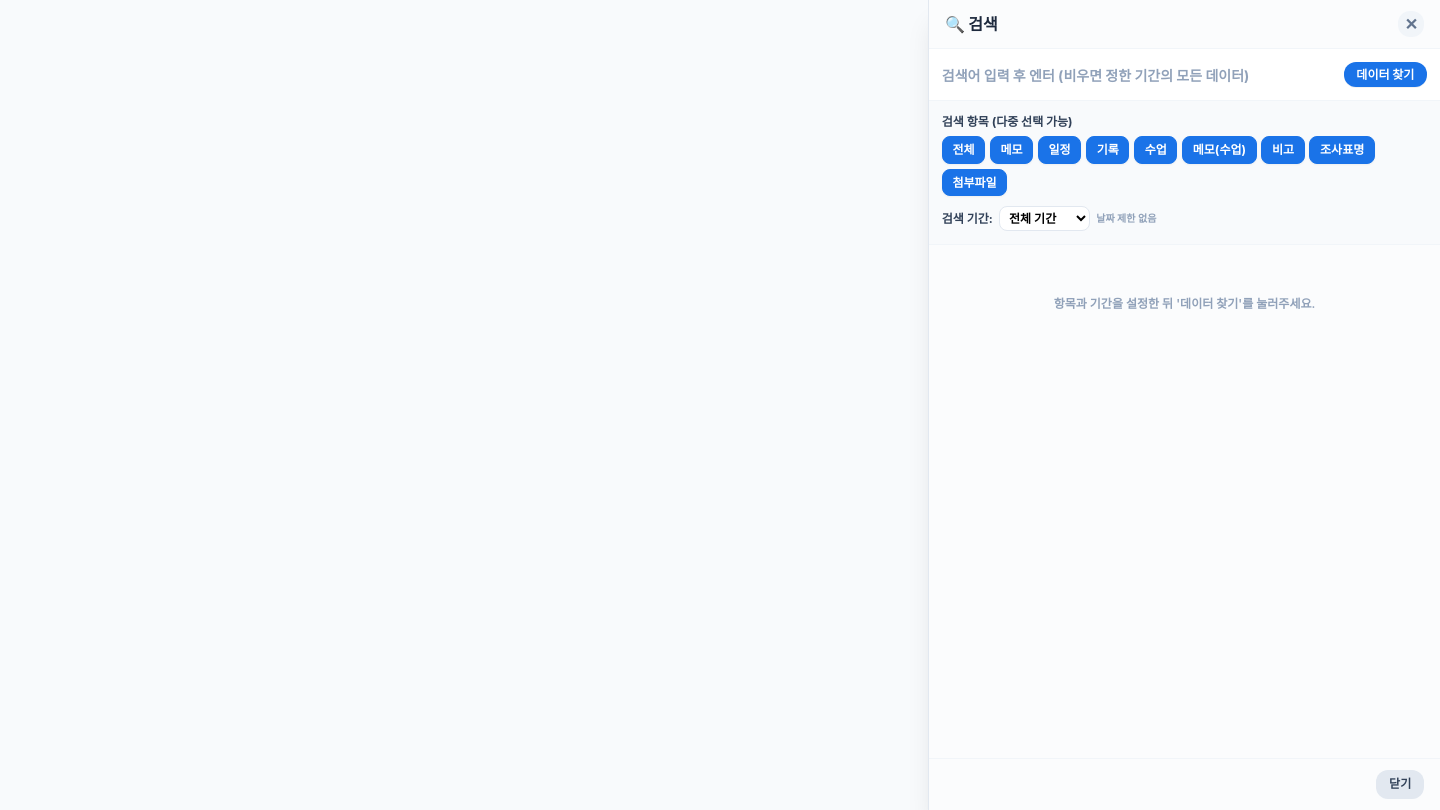
Test: 검색 - 메모 기간 › 고른 기간 안에 만든 메모만 나온다
This screenshot has width=1440, height=810.
Select "1학기" in the dropdown at (1044, 219), box [999,206,1090,231]
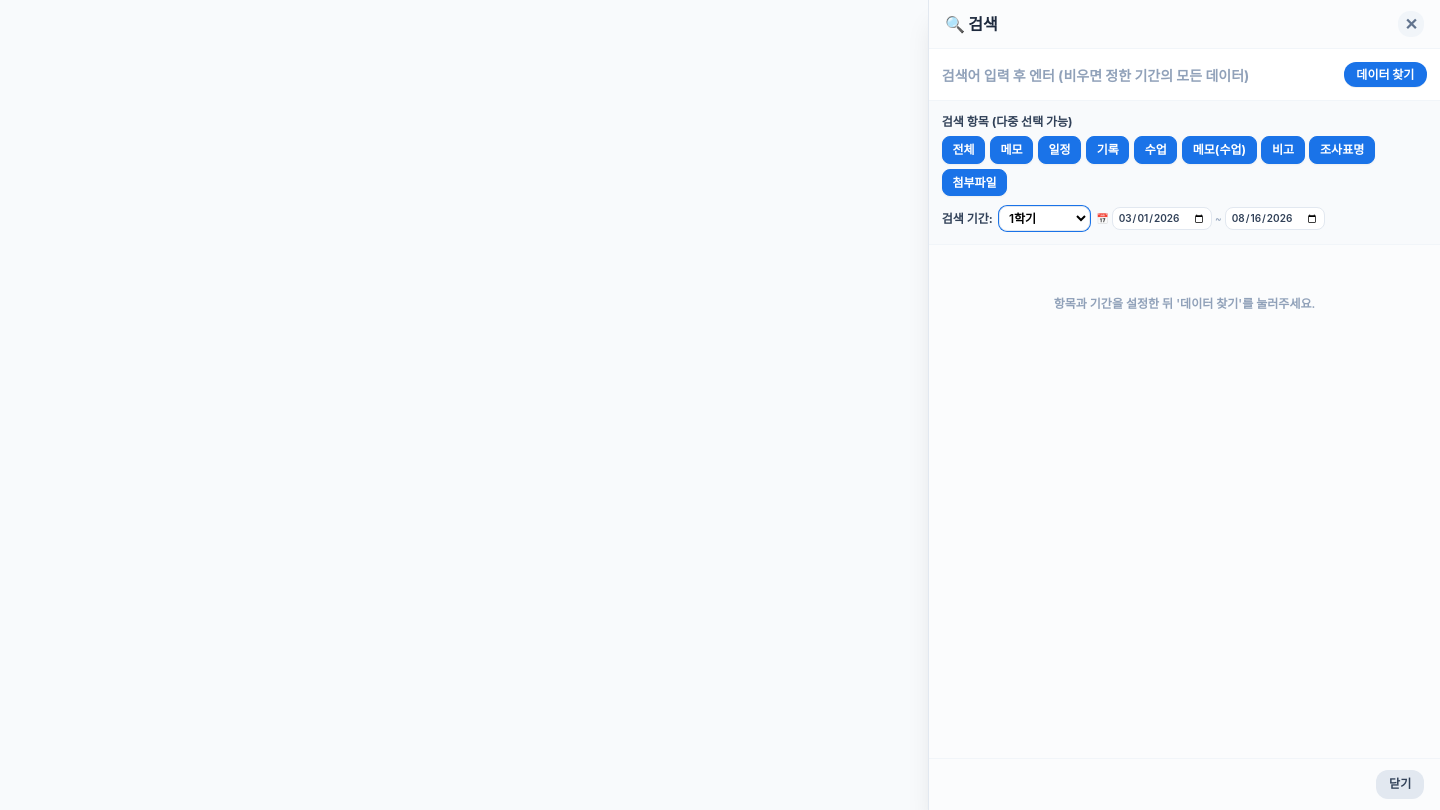
Click the button "데이터 찾기" at (1385, 75), box [1344,62,1427,87]
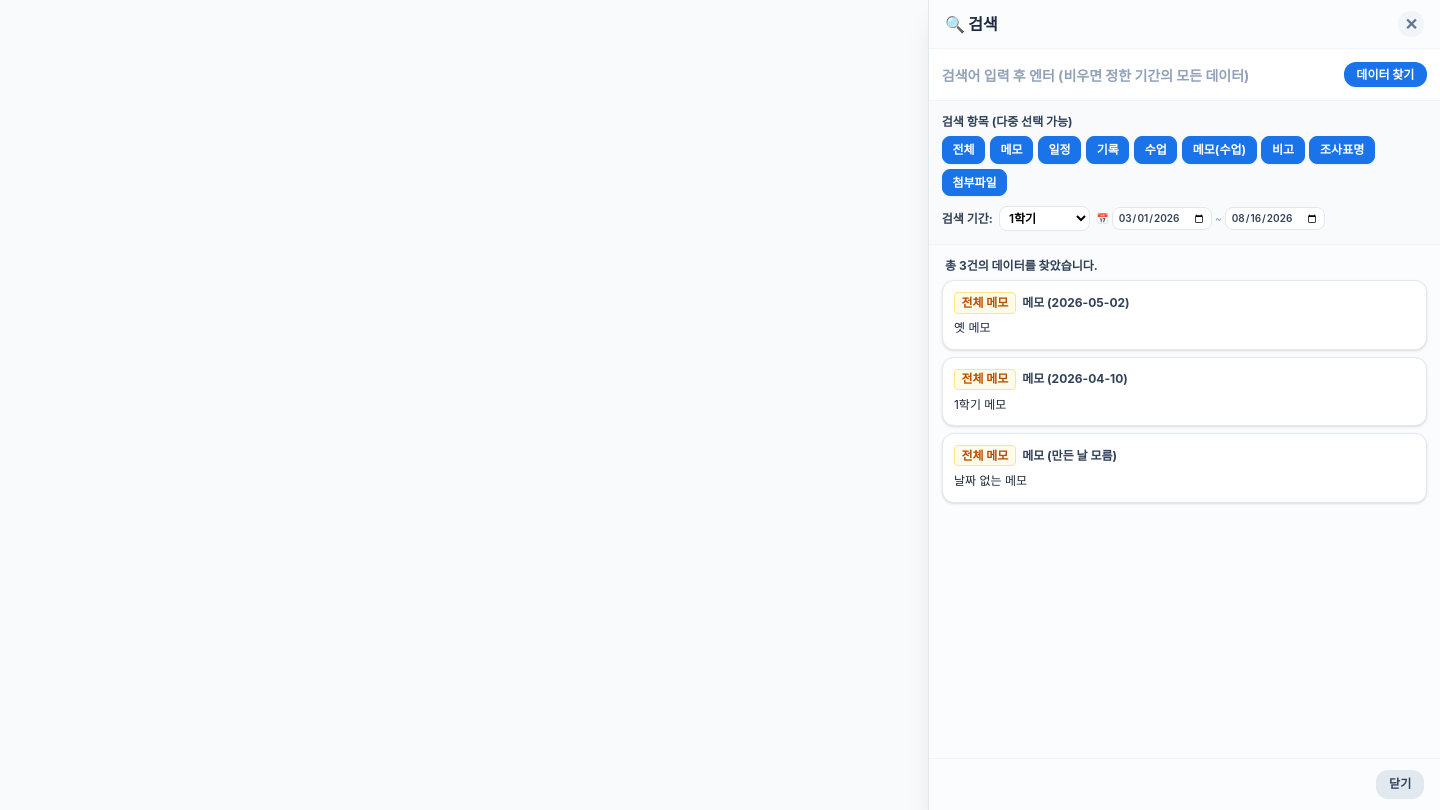
Expected: the text "1학기 메모" is shown, [954,397,1006,412]
Expected: the text "메모 (2026-04-10)" is shown, [1022,371,1128,387]
Expected: the text "옛 메모" is shown, [954,320,990,336]
